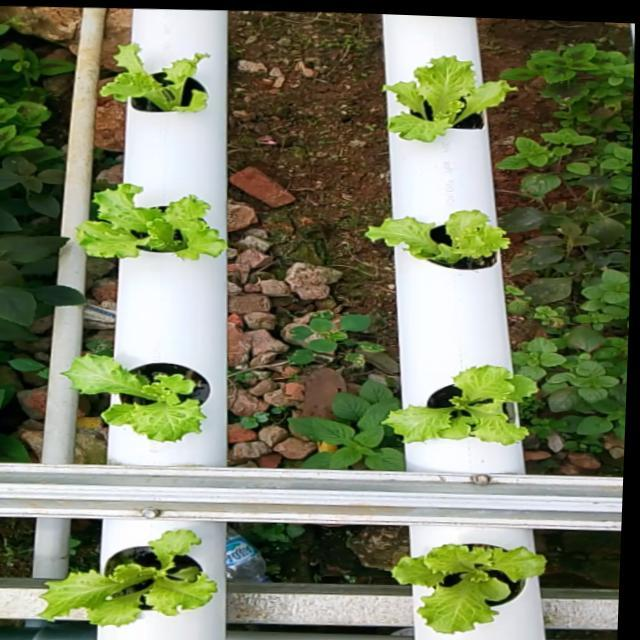Baby: (32, 522, 210, 619), (386, 523, 540, 630), (61, 353, 210, 442), (374, 361, 532, 442), (73, 183, 226, 259), (381, 56, 514, 142), (363, 209, 509, 269), (98, 44, 207, 112)
